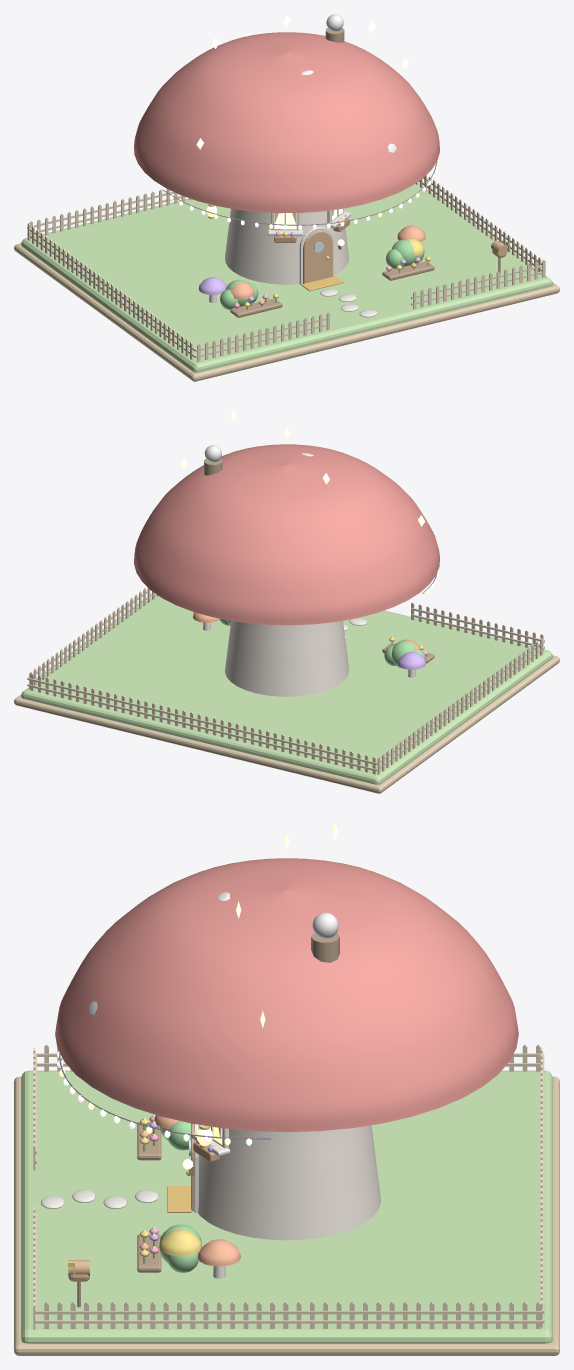
Rendered from building_forest_L09.glb.
3 views of the same model, one above another, from view 1: azimuth 30°, elevation 25°; view 2: azimuth 150°, elevation 25°; view 3: azimuth 270°, elevation 25° (orthographic). The views are drawn at different scales.
Parts seen in each view (by area): view 1: forest_L9; view 2: forest_L9; view 3: forest_L9.
Boxes of the visible parts, bbox=[...] form: forest_L9: bbox=[14, 14, 559, 381]; forest_L9: bbox=[14, 444, 559, 793]; forest_L9: bbox=[14, 858, 559, 1355].
Bounding box in the file's own units: 26.61 × 17.79 × 22.6.
